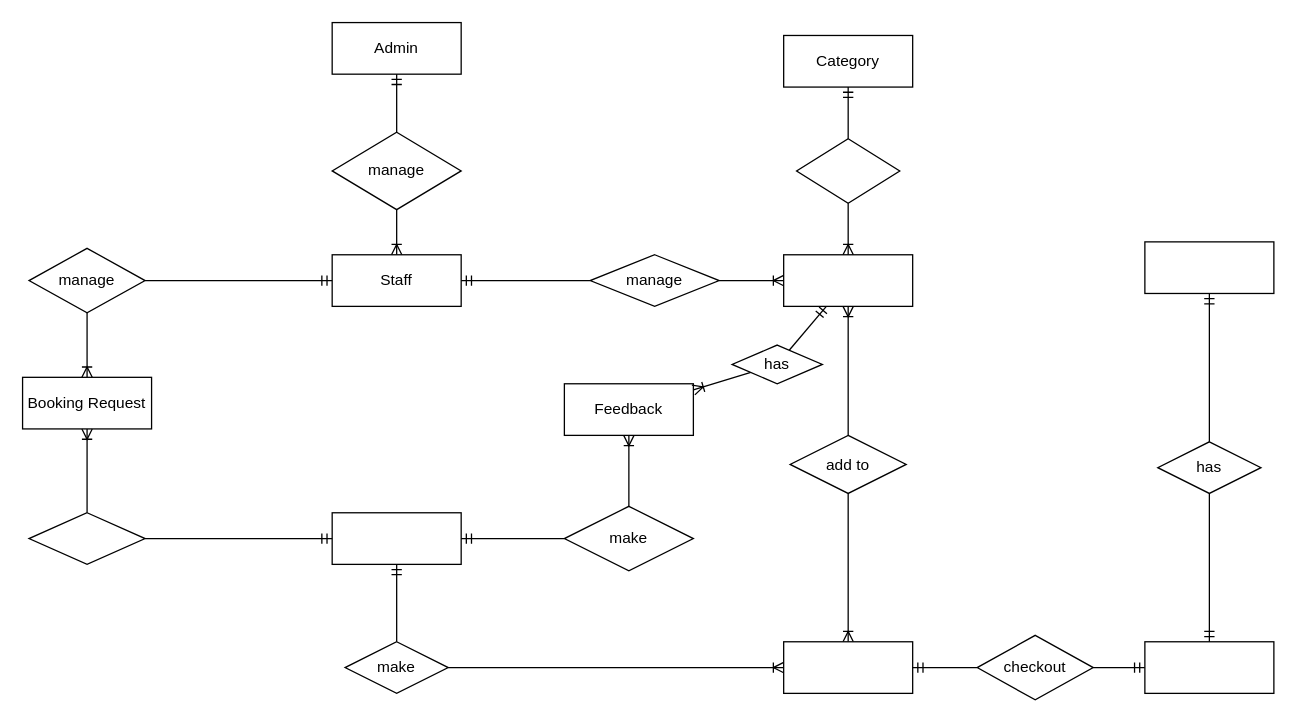
Image size: 1296x722. Some labels were removed from this diagram. Each missing label, with the box of its shape:
belong to: (795, 137, 900, 203)
book: (28, 511, 145, 564)
Customer: (331, 511, 461, 564)
Delivery: (1144, 241, 1274, 293)
Order: (782, 640, 913, 693)
Payment: (1144, 640, 1274, 693)
Product: (782, 253, 913, 306)
